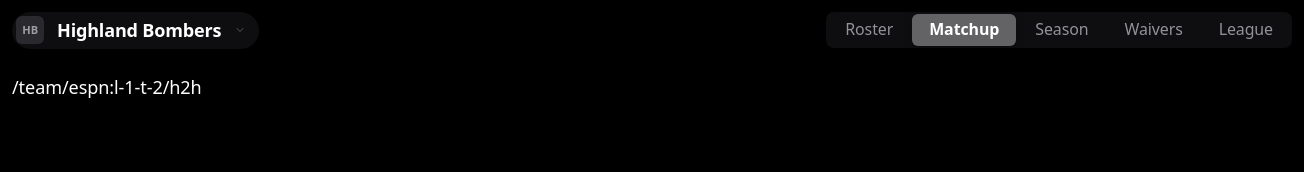
TeamContextBar › preserves the section when switching teams
Check: the text "Highland Bombers" is shown, box [57, 18, 221, 42]
Click the button "HB Highland Bombers" at (135, 30), box [12, 12, 259, 48]
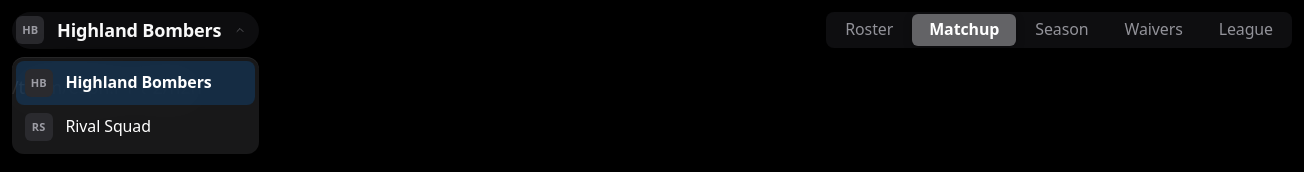
Click the option "RS Rival Squad" at (136, 127), box [16, 105, 255, 149]
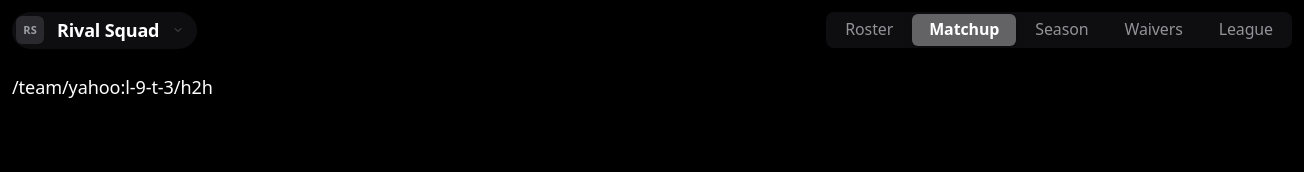
Check: the text with test id "path" reads "/team/yahoo:l-9-t-3/h2h", box [12, 75, 213, 99]
